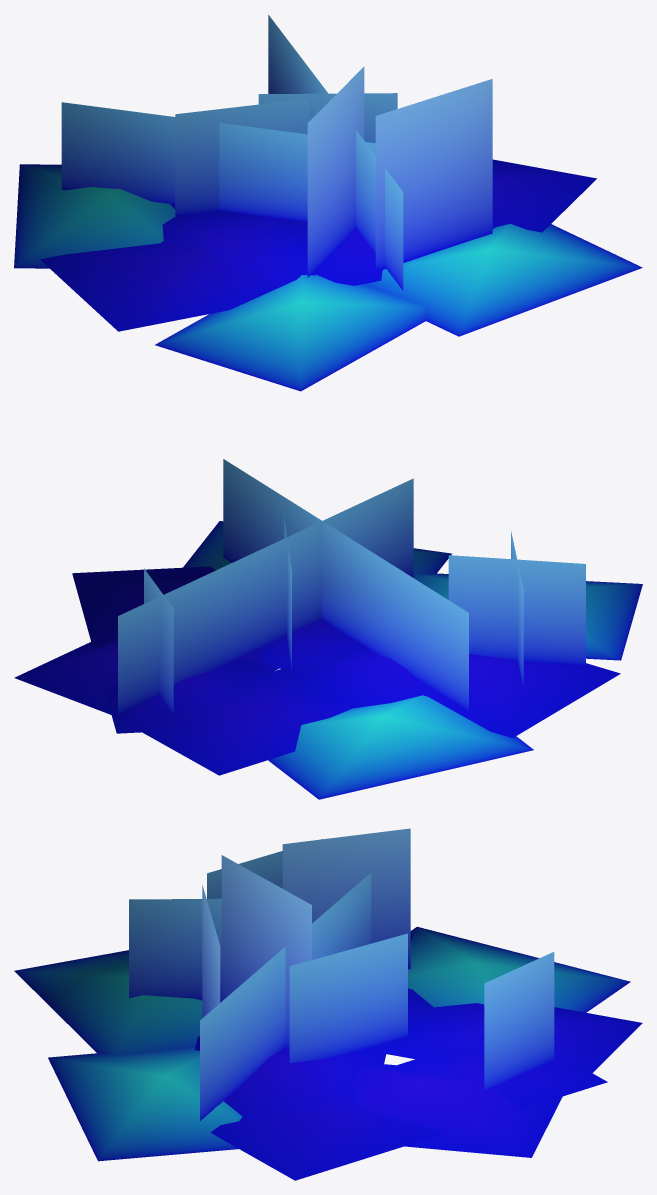
The model's file is SM_Env_Ground_Cover_02.glb.
The picture shows the model from 3 angles, top to bottom: view 1: azimuth 30°, elevation 25°; view 2: azimuth 150°, elevation 25°; view 3: azimuth 270°, elevation 25°; orthographic projection. The views are drawn at different scales.
Parts seen in each view (by area): view 1: SM_Env_Ground_Cover_02_LOD0; view 2: SM_Env_Ground_Cover_02_LOD0; view 3: SM_Env_Ground_Cover_02_LOD0.
Boxes of the visible parts, x1,y1,x2,y2 form: SM_Env_Ground_Cover_02_LOD0: [14, 15, 642, 391]; SM_Env_Ground_Cover_02_LOD0: [14, 459, 642, 799]; SM_Env_Ground_Cover_02_LOD0: [14, 828, 642, 1180].
Size of what is drawn, in the model's own units: 1.87 by 0.5704 by 1.91.
